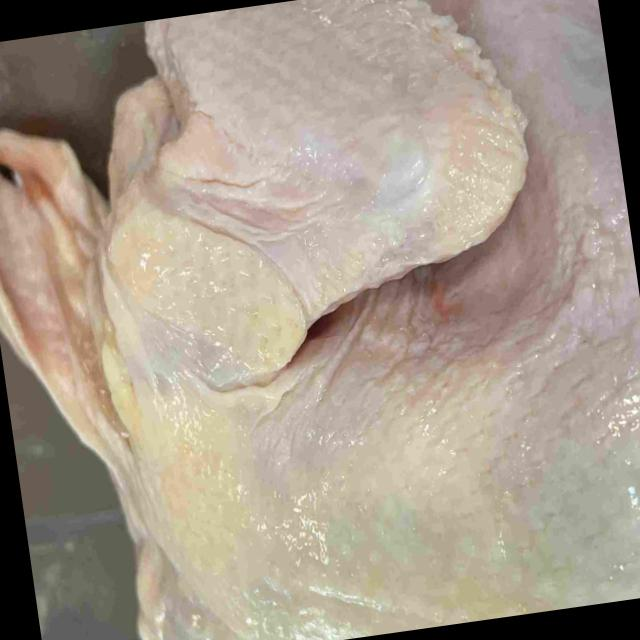back: (248, 316, 640, 640)
leg: (450, 0, 640, 313)
neck: (0, 133, 128, 489)
wing: (108, 0, 531, 391), (133, 562, 213, 640)
